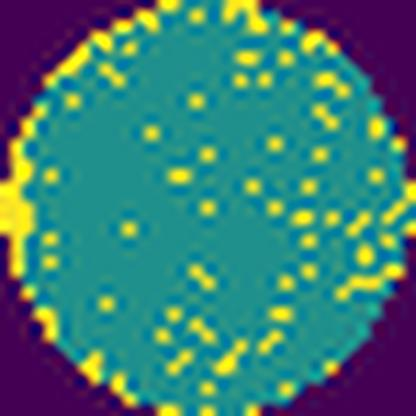Edge-Loc: (0, 102, 47, 281), (216, 0, 270, 36)
